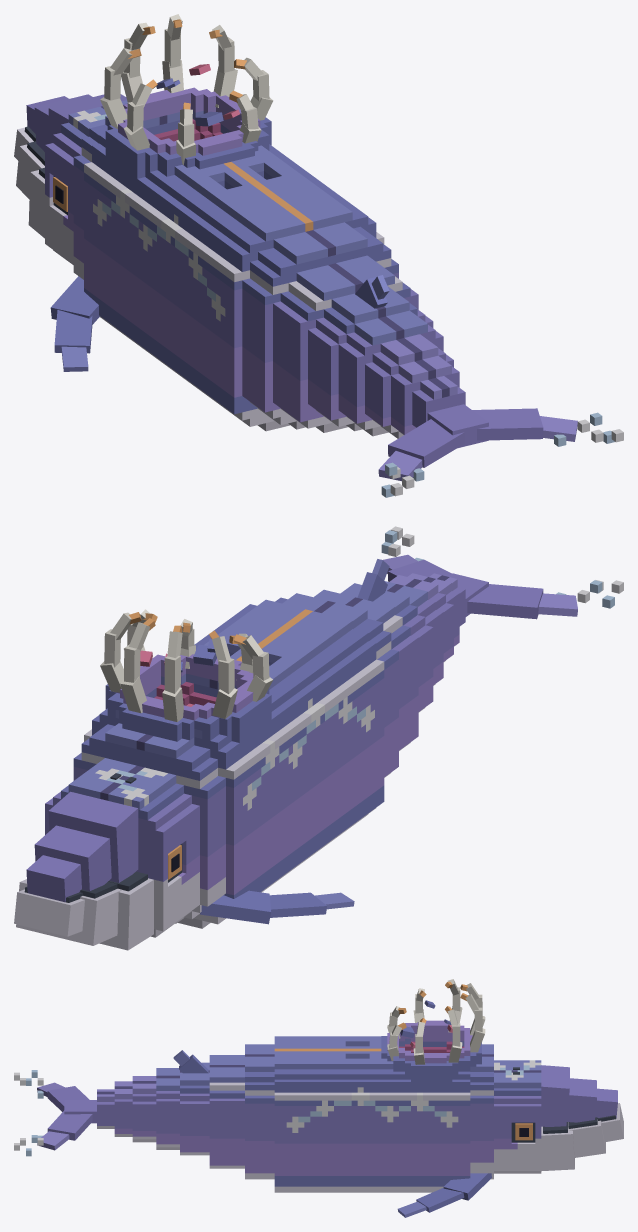
The model's file is TheHollow.glb.
The picture shows the model from 3 angles, top to bottom: view 1: azimuth 30°, elevation 25°; view 2: azimuth 150°, elevation 25°; view 3: azimuth 270°, elevation 25°; orthographic projection. The views are drawn at different scales.
Visible parts, largest first — view 1: Chest, T1, Head, T2, Fluke, T3, T4, Chest_Glow, T5, FlipperL, T6, T7 (+1 smaller); view 2: Chest, Head, Fluke, T1, T2, FlipperL, T3, Chest_Glow, T4, T5, Dust, Head_Glow (+1 smaller); view 3: Chest, Head, T2, T1, T3, Chest_Glow, Fluke, T4, T5, FlipperR, T6, T7 (+2 smaller).
Boxes of the visible parts, x1,y1,x2,y2 form: Chest: [73, 14, 384, 431]; T1: [242, 222, 398, 429]; Head: [14, 94, 127, 264]; T2: [273, 255, 418, 432]; Fluke: [378, 404, 577, 481]; T3: [308, 275, 433, 431]; T4: [338, 310, 443, 436]; Chest_Glow: [93, 19, 313, 321]; T5: [365, 334, 453, 438]; FlipperL: [50, 276, 99, 371]; T6: [391, 356, 459, 434]; T7: [412, 376, 465, 427]; Chest: [73, 599, 384, 928]; Head: [14, 758, 199, 950]; Fluke: [383, 554, 577, 619]; T1: [275, 593, 398, 777]; T2: [314, 589, 418, 750]; FlipperL: [200, 890, 354, 924]; T3: [340, 559, 433, 712]; Chest_Glow: [129, 609, 374, 810]; T4: [384, 581, 443, 685]; T5: [389, 575, 453, 661]; Dust: [381, 526, 623, 608]; Head_Glow: [95, 767, 181, 879]; Chest: [274, 979, 493, 1192]; Head: [494, 1060, 623, 1173]; T2: [209, 1055, 244, 1168]; T1: [245, 1044, 274, 1179]; T3: [173, 1050, 209, 1155]; Chest_Glow: [274, 981, 467, 1132]; Fluke: [37, 1082, 96, 1150]; T4: [156, 1068, 179, 1149]; T5: [132, 1076, 156, 1142]; FlipperR: [397, 1173, 491, 1217]; T6: [114, 1081, 132, 1136]; T7: [97, 1089, 114, 1128].
Size of the model in its own units: 18.43 by 17.67 by 51.47.
